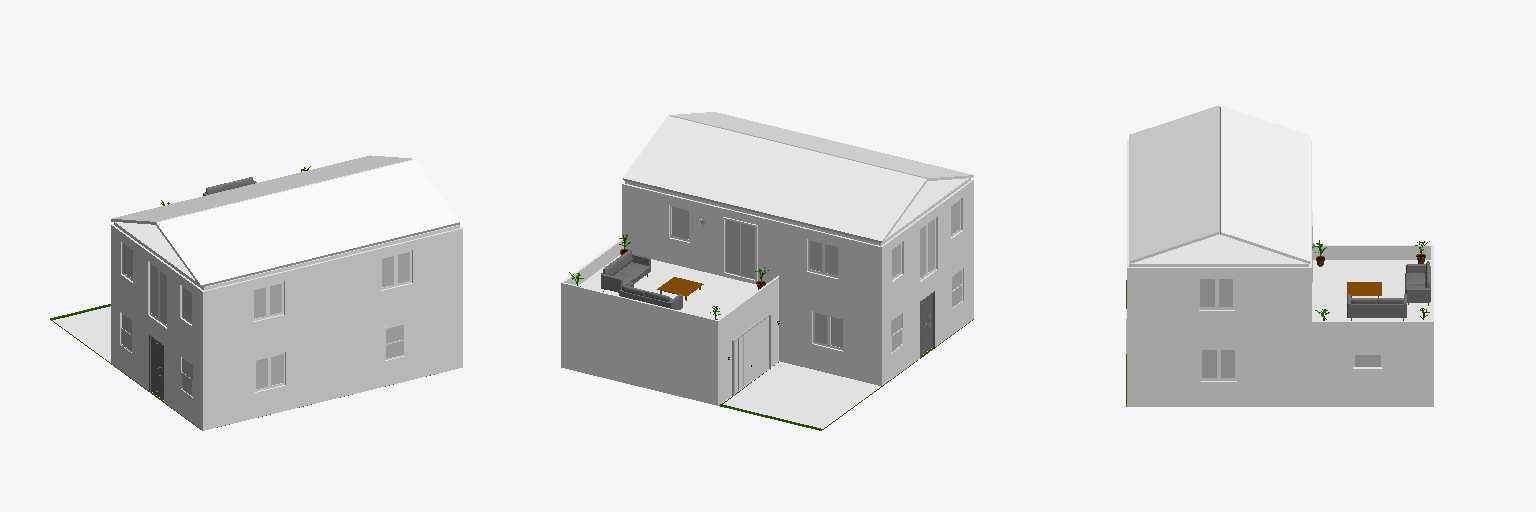
File: house2.obj
The picture shows the model from 3 angles: view 1: azimuth 30°, elevation 25°; view 2: azimuth 150°, elevation 25°; view 3: azimuth 270°, elevation 25°; orthographic projection.
Parts seen in each view (by area): view 1: bottom_256, wall_3_11, wall_10_53, wall_9_47, wall_2_5, bottom_250, room_20_85, room_17_82, sweethome3d_opening_on_hinge_1_doorOutside_102, front_261; view 2: bottom_250, wall_5_23, wall_12_65, room_17_82, wall_14_77, wall_9_47, wall_2_5, bottom_256, room_19_84, wall_7_34, room_20_85, wall_13_71 (+7 smaller); view 3: wall_11_59, wall_4_17, bottom_250, bottom_256, room_19_84, room_20_85, wall_8_40, wall_6_29, Bottom_287.
Boxes of the visible parts, <box> form: bottom_256: <box>157,160,459,284</box>; wall_3_11: <box>203,229,462,362</box>; wall_10_53: <box>203,300,462,430</box>; wall_9_47: <box>111,296,202,430</box>; wall_2_5: <box>111,225,202,362</box>; bottom_250: <box>112,155,411,221</box>; room_20_85: <box>114,222,459,290</box>; room_17_82: <box>53,306,110,362</box>; sweethome3d_opening_on_hinge_1_doorOutside_102: <box>151,338,163,399</box>; front_261: <box>201,222,459,286</box>; bottom_250: <box>623,116,926,240</box>; wall_5_23: <box>622,184,881,317</box>; wall_12_65: <box>561,300,717,405</box>; room_17_82: <box>723,362,880,428</box>; wall_14_77: <box>779,294,880,385</box>; wall_9_47: <box>881,251,973,385</box>; wall_2_5: <box>882,180,973,317</box>; bottom_256: <box>671,112,971,177</box>; room_19_84: <box>579,255,757,318</box>; wall_7_34: <box>561,283,717,337</box>; room_20_85: <box>625,178,970,245</box>; wall_13_71: <box>718,294,778,405</box>; wall_11_59: <box>1127,339,1433,406</box>; wall_4_17: <box>1127,268,1311,338</box>; bottom_250: <box>1221,106,1310,261</box>; bottom_256: <box>1129,105,1218,260</box>; room_19_84: <box>1312,260,1430,320</box>; room_20_85: <box>1129,234,1308,266</box>; wall_8_40: <box>1311,322,1433,338</box>; wall_6_29: <box>1313,246,1430,259</box>; Bottom_287: <box>1351,304,1403,317</box>.
Bounding box in the file's own units: 1005 × 643 × 1026.